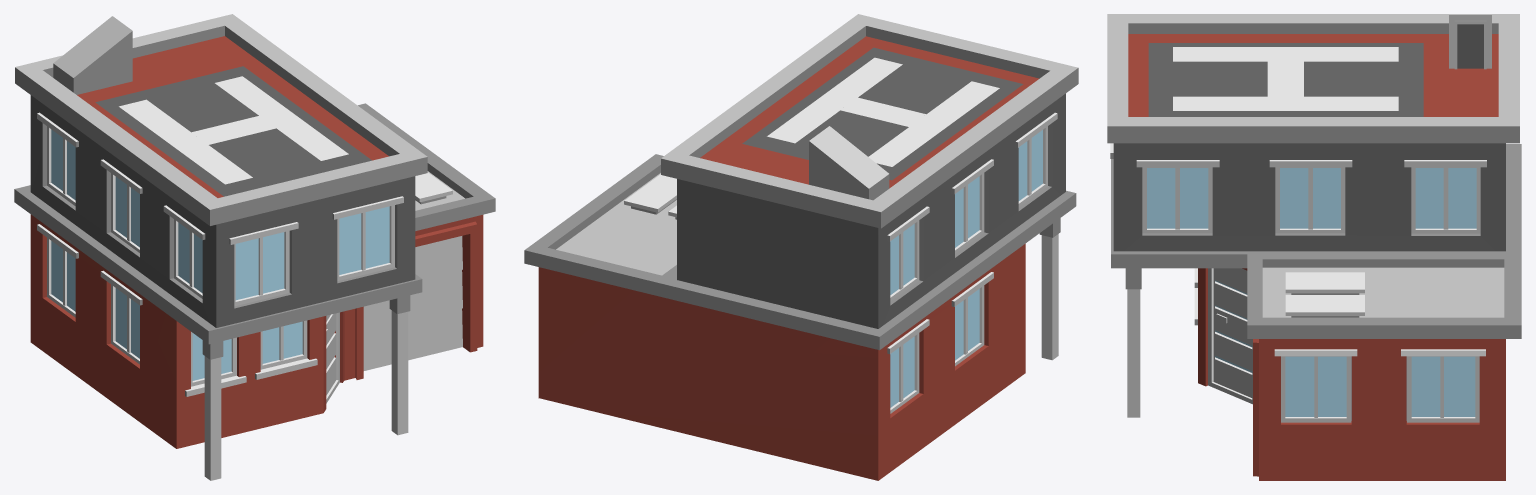
The model's file is house_purpose_002.glb.
3 views of the same model, side by side, from view 1: azimuth 30°, elevation 25°; view 2: azimuth 150°, elevation 25°; view 3: azimuth 270°, elevation 25° (orthographic). The views are drawn at different scales.
Visible parts, largest first — view 1: house_purpose_002; view 2: house_purpose_002; view 3: house_purpose_002.
Part boxes in pixels (left/top/right/bottom): house_purpose_002: left=14, top=14, right=495, bottom=480; house_purpose_002: left=524, top=14, right=1078, bottom=480; house_purpose_002: left=1107, top=14, right=1521, bottom=480.
Bounding box in the file's own units: 7.95 × 6.92 × 7.67.
1 material, 1 textured.
